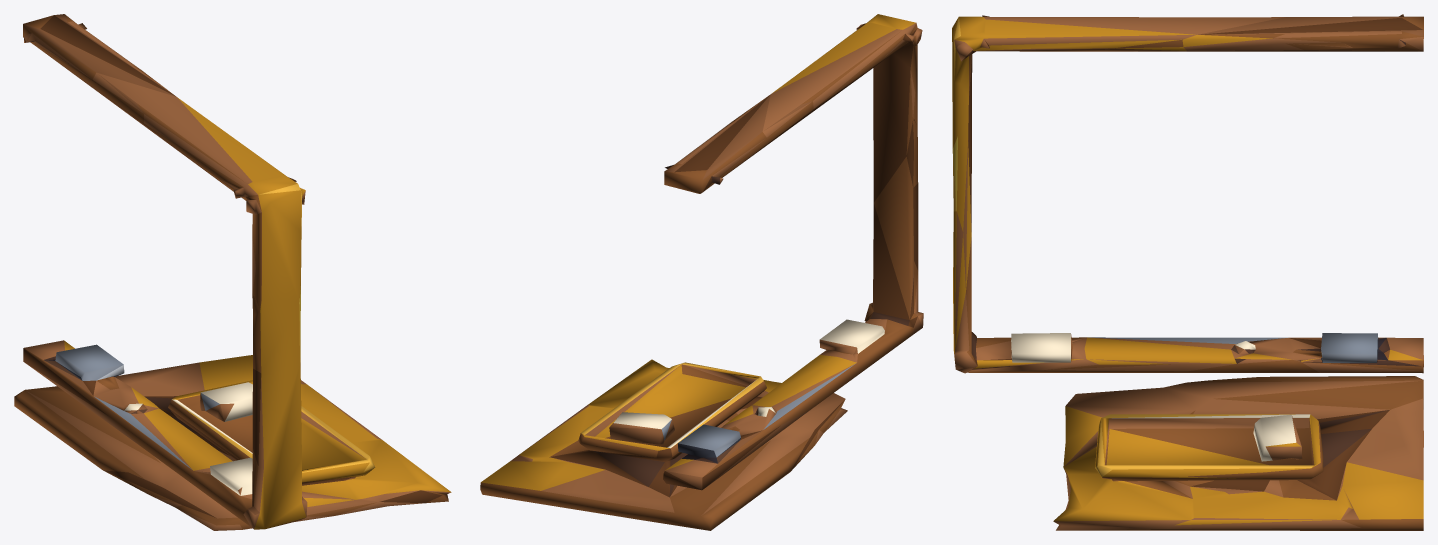
Rendered from SM_sign_stand_wood.fbx.
3 views of the same model, side by side, from view 1: azimuth 30°, elevation 25°; view 2: azimuth 150°, elevation 25°; view 3: azimuth 270°, elevation 25° (orthographic). The views are drawn at different scales.
Visible parts, largest first — view 1: SM_sign_stand_wood; view 2: SM_sign_stand_wood; view 3: SM_sign_stand_wood.
Part boxes in pixels (<box>): SM_sign_stand_wood: <box>14,14,451,530</box>; SM_sign_stand_wood: <box>480,14,923,530</box>; SM_sign_stand_wood: <box>952,14,1423,530</box>.
Size of the model in its own units: 78.57 by 120 by 128.
1 material, 1 textured.
